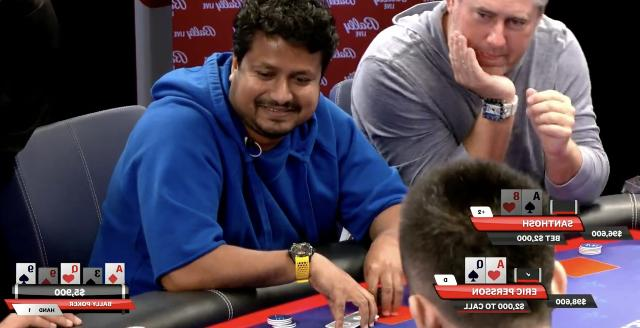8H: (501, 190, 523, 216)
AS: (522, 190, 542, 216)
